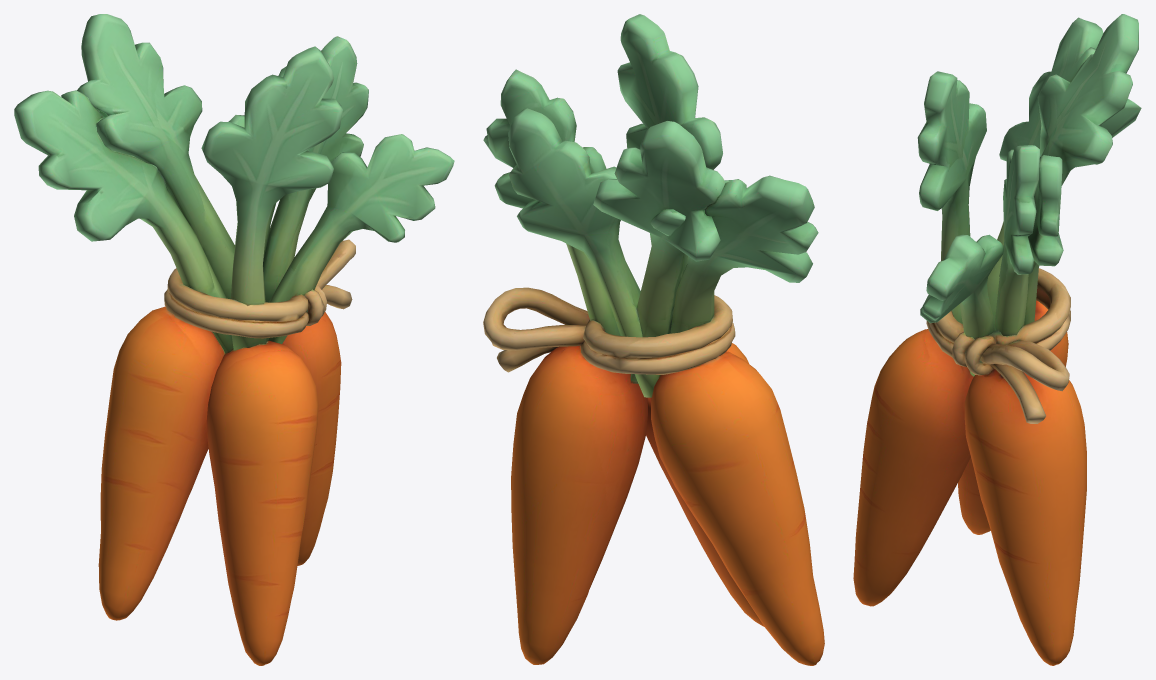
Rendered from carrots.glb.
3 renders of one model, left to right at view 1: azimuth 30°, elevation 25°; view 2: azimuth 150°, elevation 25°; view 3: azimuth 270°, elevation 25°, orthographic. The views are drawn at different scales.
Parts seen in each view (by area): view 1: Carrots; view 2: Carrots; view 3: Carrots.
Part boxes in pixels (<box>): Carrots: <box>14,14,454,665</box>; Carrots: <box>483,14,824,665</box>; Carrots: <box>853,14,1141,665</box>.
Bounding box in the file's own units: 0.6738 × 0.998 × 0.4551.
Materials: 1 (1 with a texture image).
